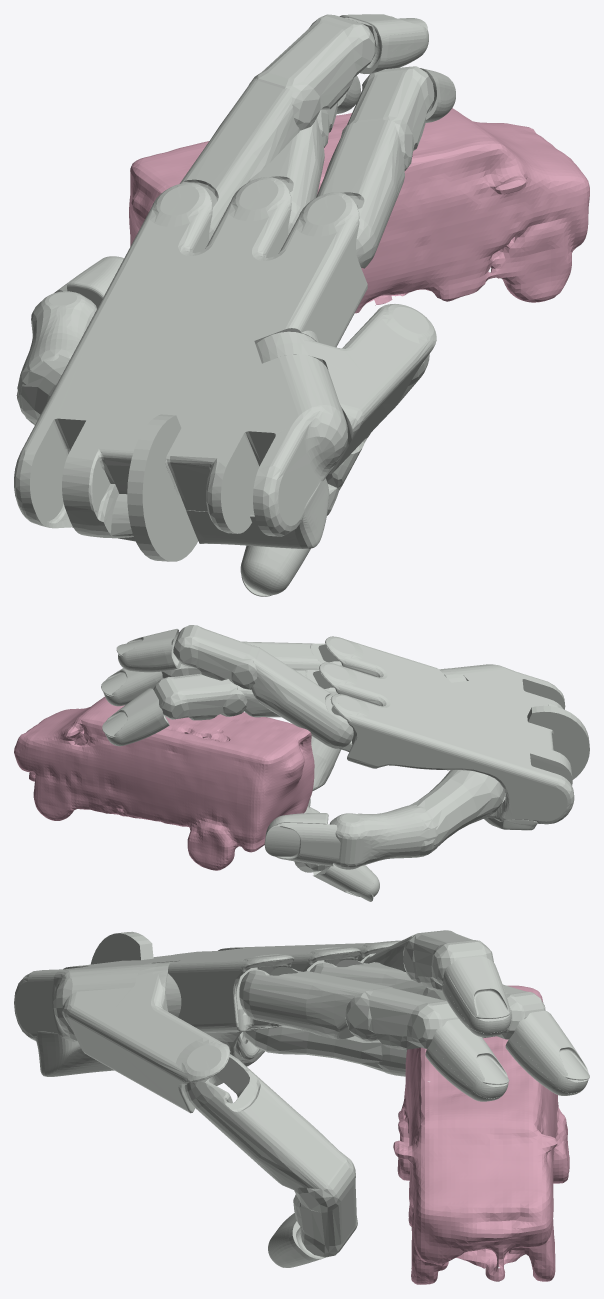
3 views of the same model, one above another, from view 1: azimuth 30°, elevation 25°; view 2: azimuth 150°, elevation 25°; view 3: azimuth 270°, elevation 25° (orthographic). The views are drawn at different scales.
Visible parts, largest first — view 1: hand, world; view 2: hand, world; view 3: hand, world.
Boxes of the visible parts, x1,y1,x2,y2 form: hand: [14, 14, 455, 596]; world: [129, 108, 589, 313]; hand: [101, 625, 589, 901]; world: [14, 696, 314, 870]; hand: [14, 930, 589, 1267]; world: [393, 985, 569, 1284].
Size of the model in its own units: 0.217 by 0.1341 by 0.1763.
